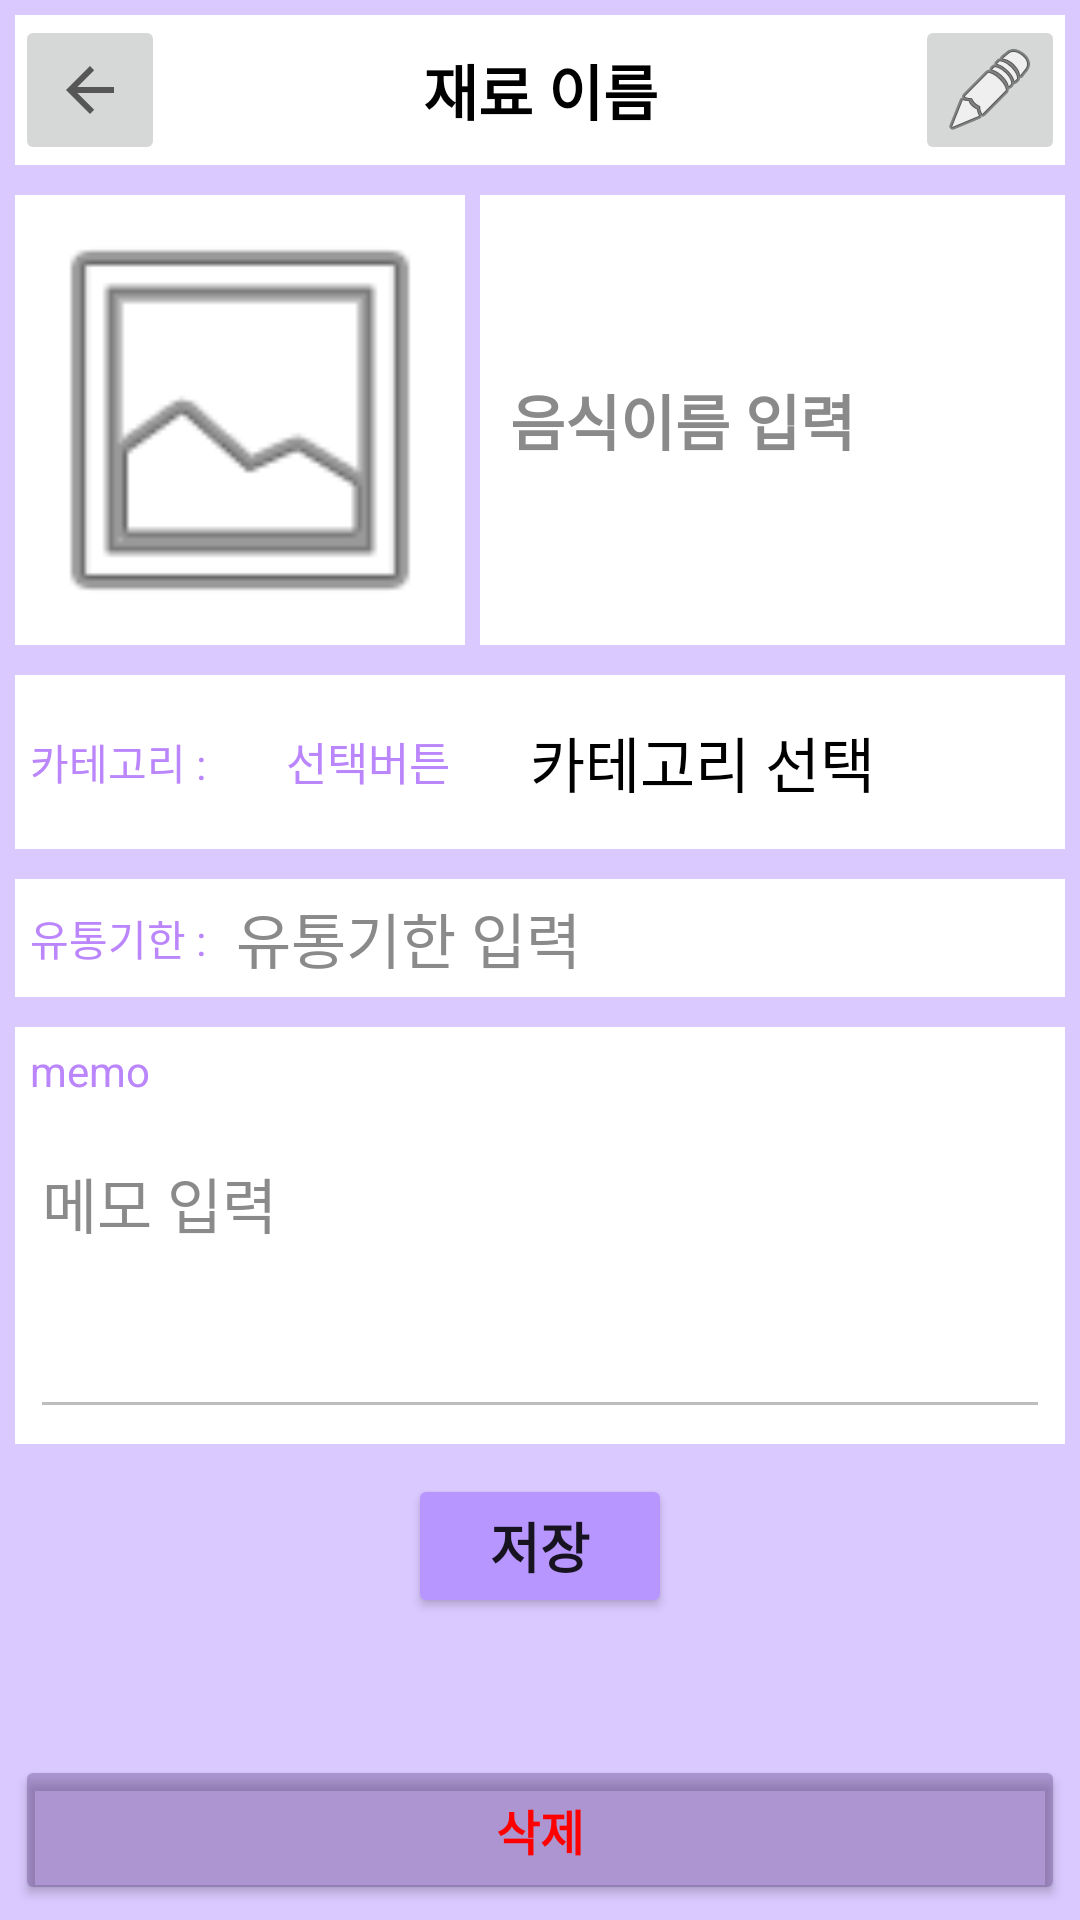

Where to tap for icons on this 1080×1920 app screen, as (x=x, y=y):
Back Button: (x=90, y=90)
Edit Button: (x=990, y=90)
